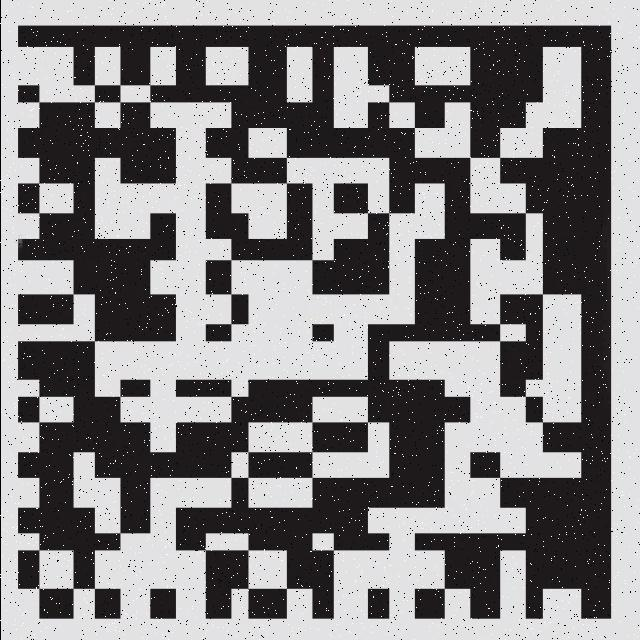datamatrix: (4, 13, 619, 636)
